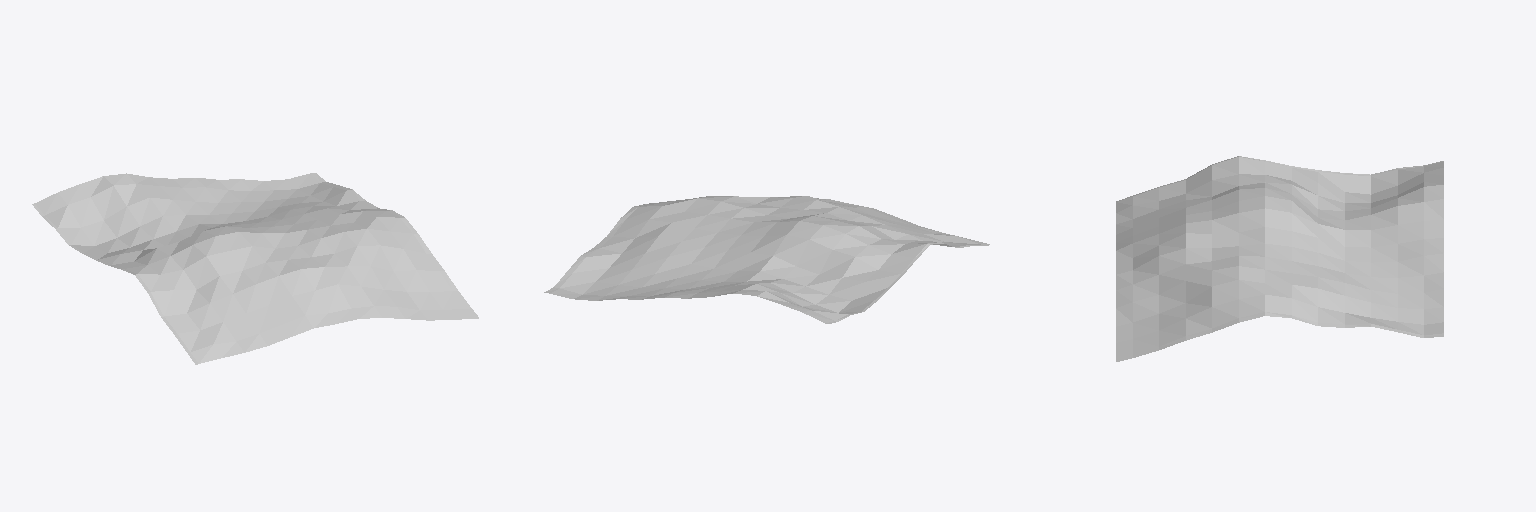
Rendered from Landscape.048.obj.
3 views of the same model, side by side, from view 1: azimuth 30°, elevation 25°; view 2: azimuth 150°, elevation 25°; view 3: azimuth 270°, elevation 25° (orthographic).
Visible parts, largest first — view 1: Landscape.048; view 2: Landscape.048; view 3: Landscape.048.
Boxes of the visible parts, x1=… form: Landscape.048: x1=32, y1=173, x2=478, y2=364; Landscape.048: x1=544, y1=196, x2=989, y2=323; Landscape.048: x1=1116, y1=156, x2=1443, y2=361.
Size of the model in its own units: 32 by 7.97 by 32.